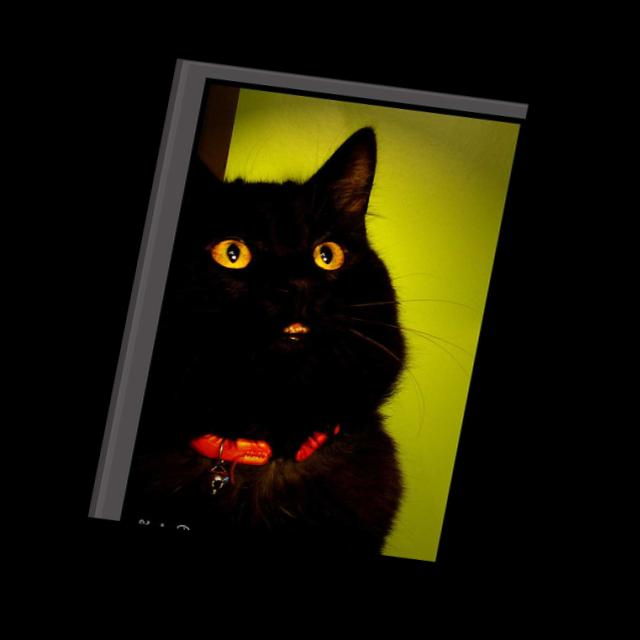animals: (129, 93, 385, 348)
